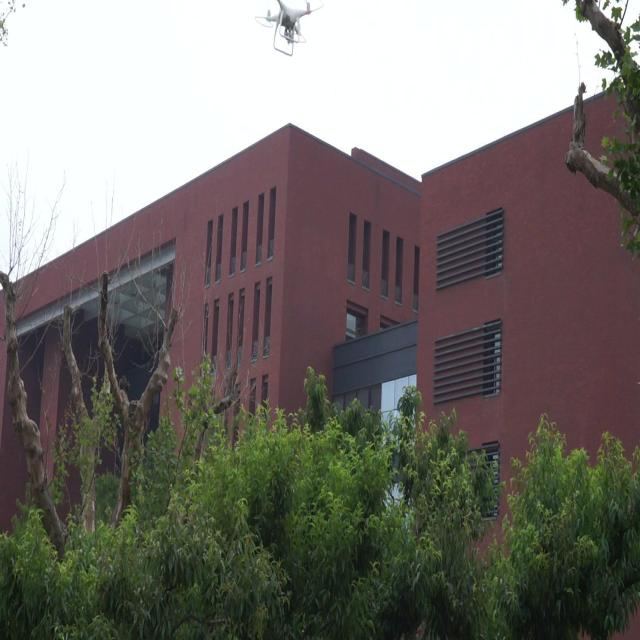drone: (249, 0, 322, 58)
